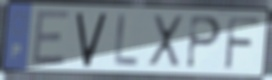E: (30, 8, 72, 69)
F: (222, 15, 262, 72)
L: (112, 12, 141, 70)
P: (184, 14, 223, 72)
V: (74, 11, 109, 69)
X: (146, 13, 185, 71)
